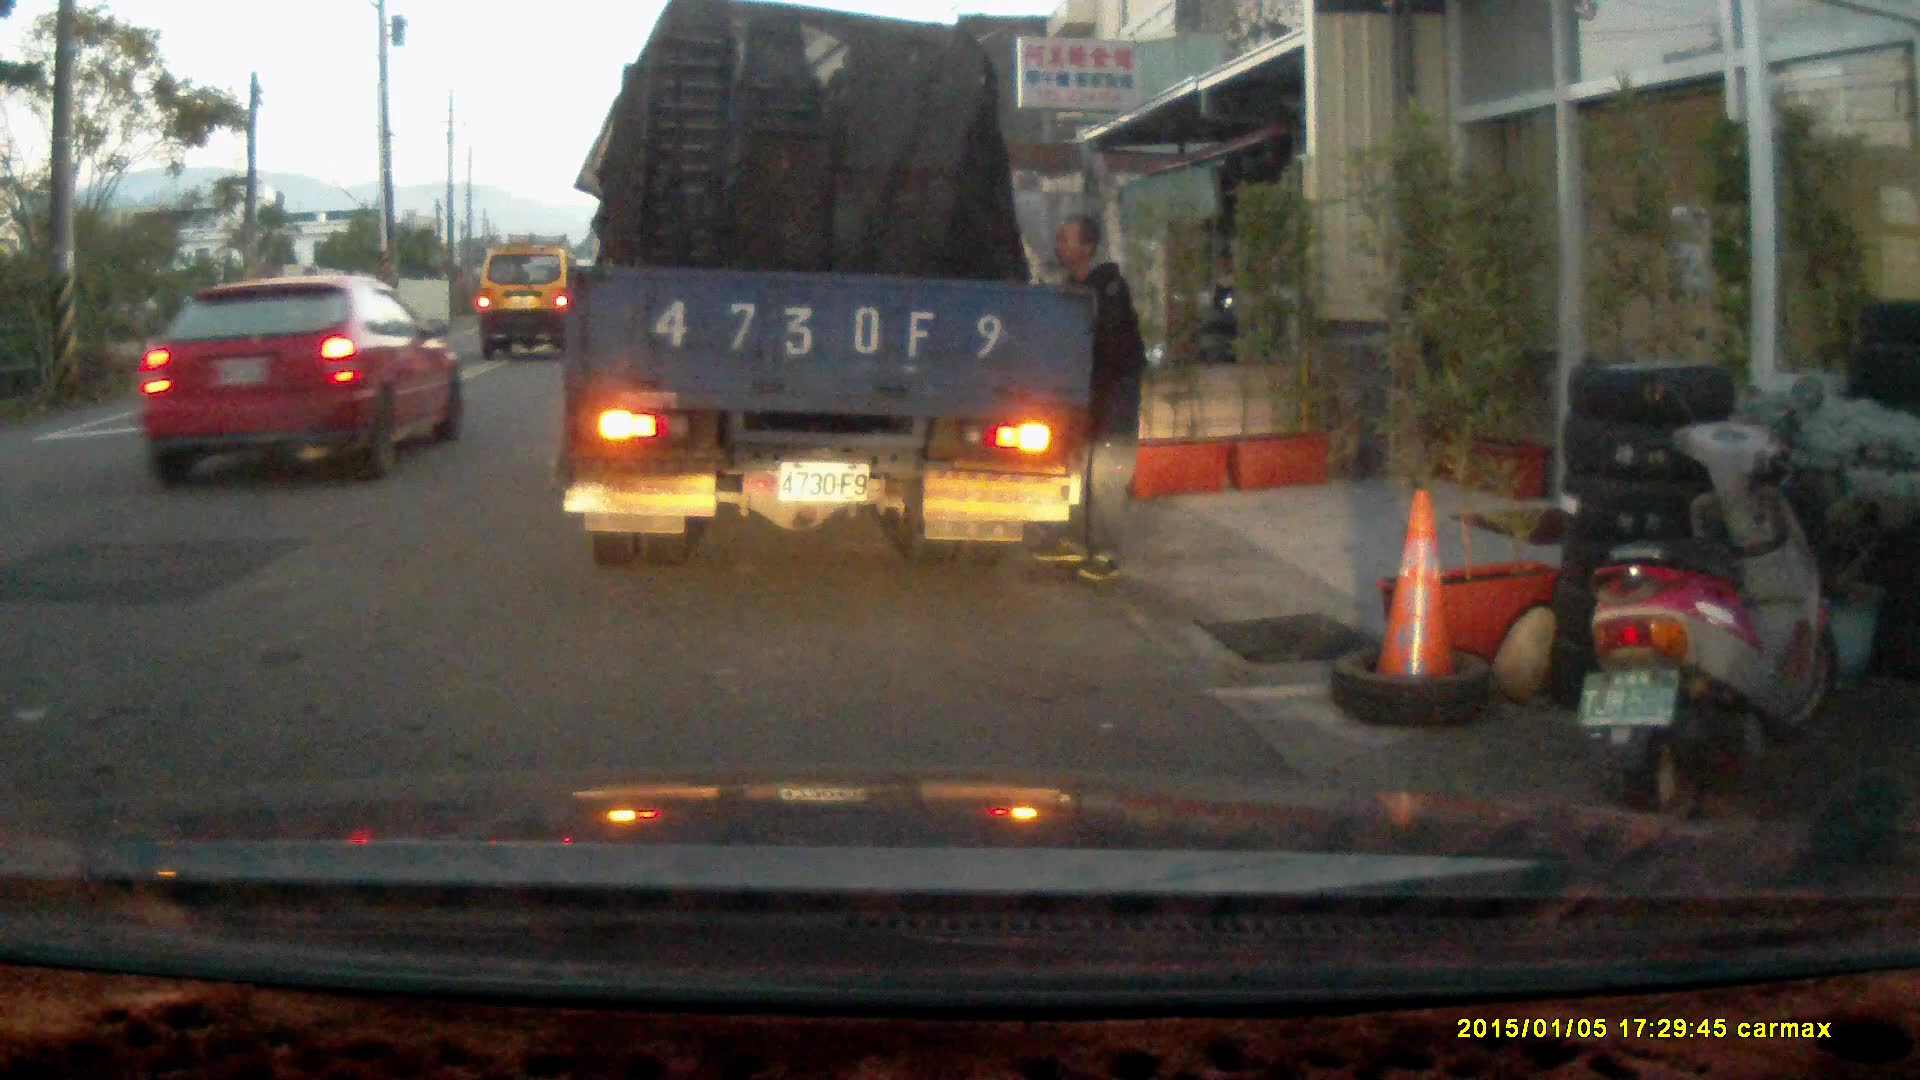pedestrian: (1032, 214, 1144, 581)
vehicle: (565, 23, 1097, 571), (134, 268, 469, 494), (475, 243, 584, 354)
